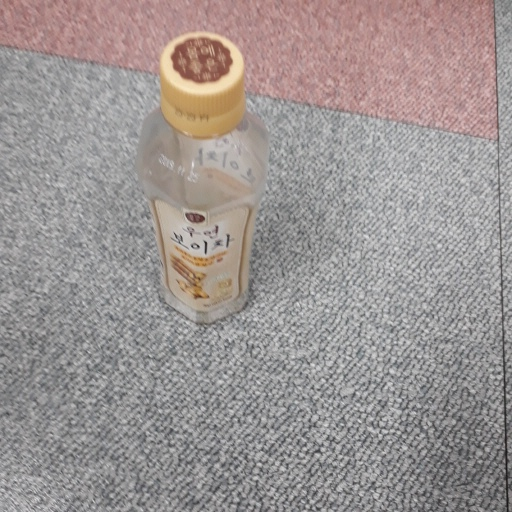Plastic_0: (139, 32, 268, 322)
